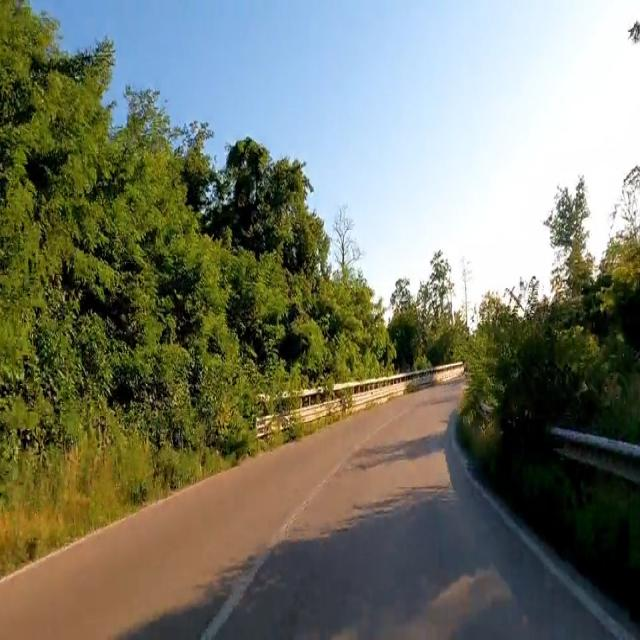lane: (200, 454, 350, 640), (200, 552, 270, 639)
road: (7, 384, 626, 640)
